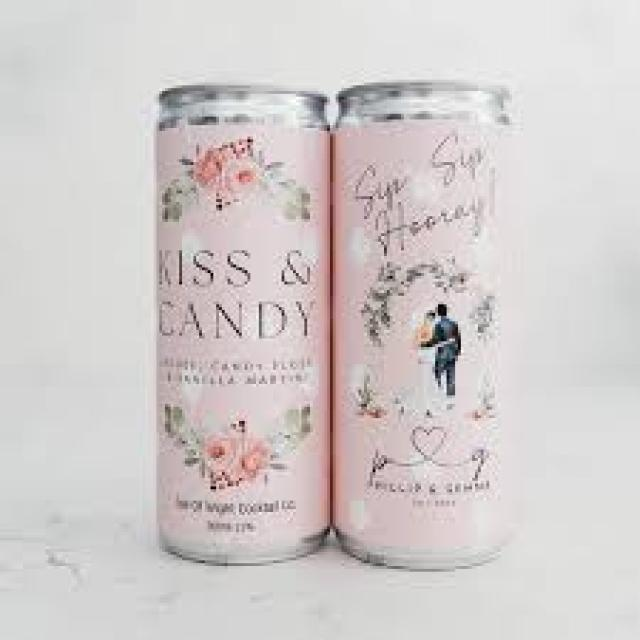Cans: (330, 66, 540, 583), (139, 80, 336, 569)
